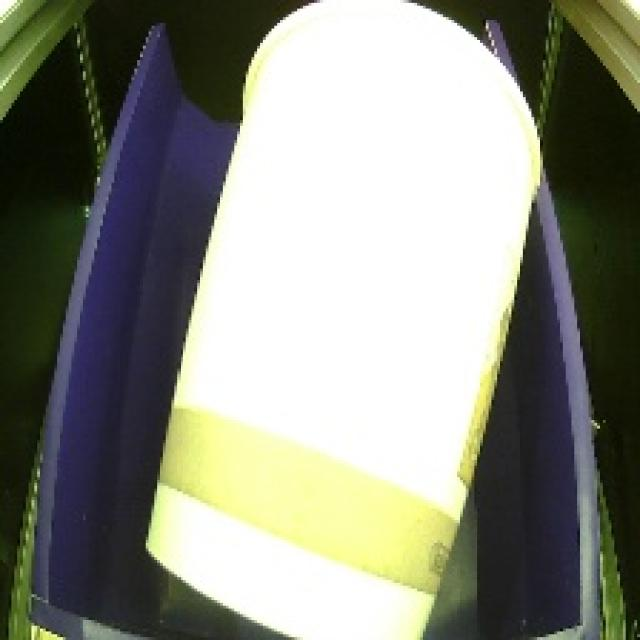cups: (135, 0, 551, 640)
